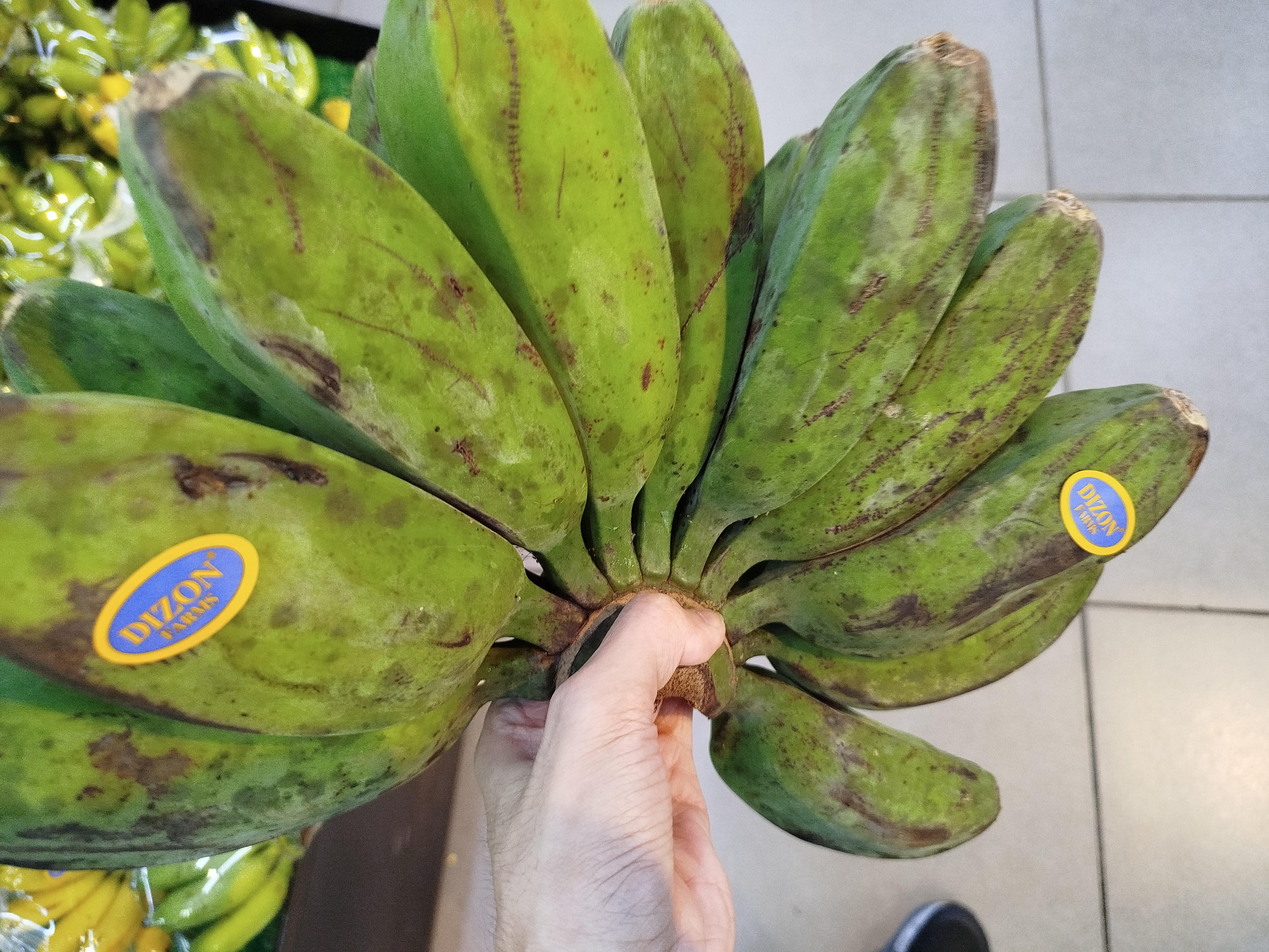underripe: (0, 0, 1207, 869)
